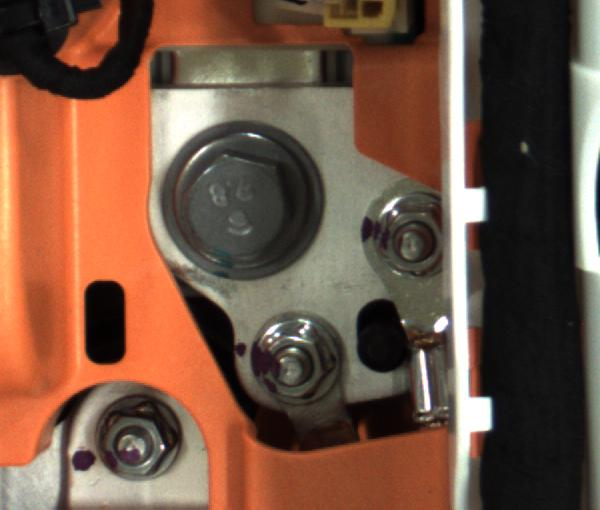nut_b: (165, 128, 326, 274)
screw_s: (229, 311, 344, 410), (94, 395, 212, 488), (372, 189, 447, 271)
